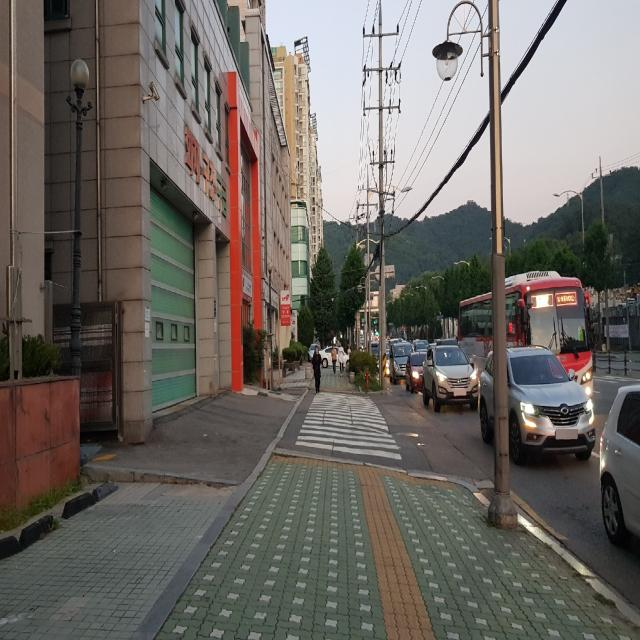횡단보도: (295, 391, 402, 461)
